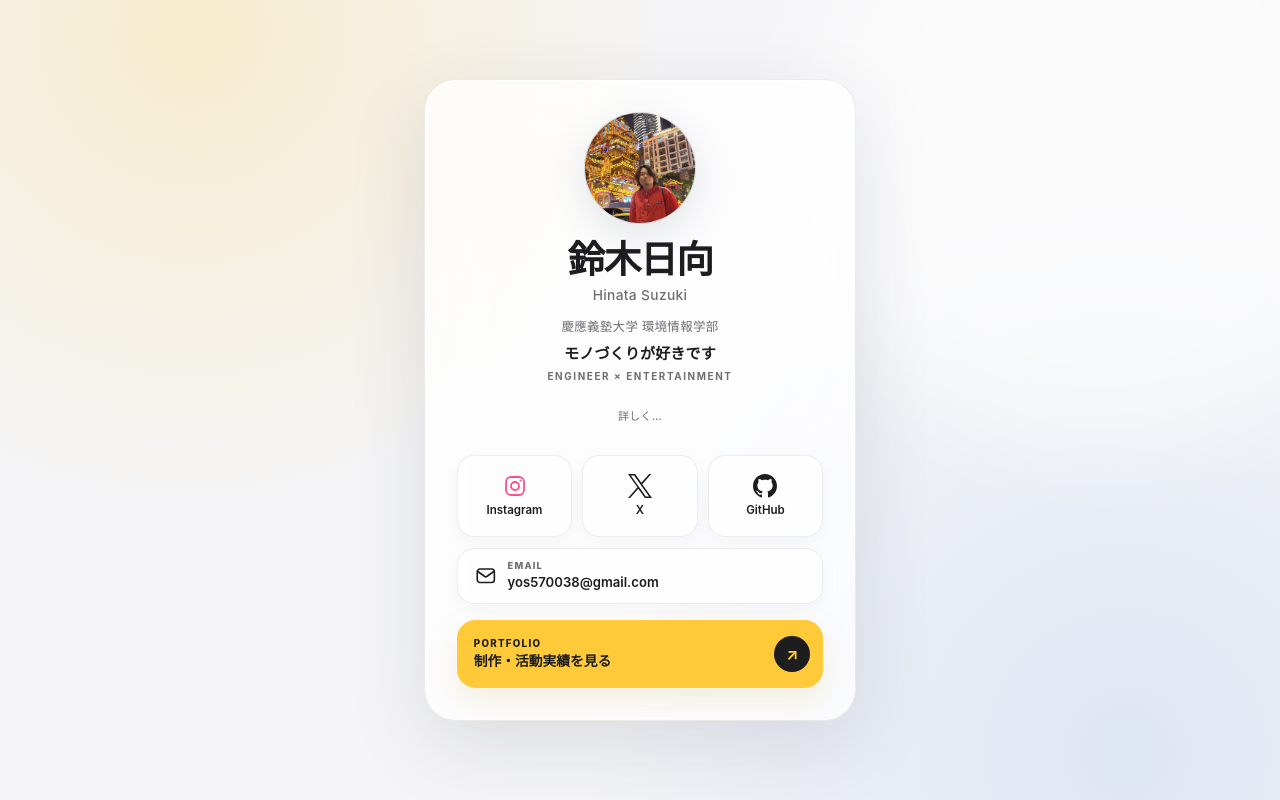
Test case: Connect page › keeps the requested introduction behind a disclosure
The image size is (1280, 800).
Step 1. Click the button "詳しく…" → [640, 417], box [608, 395, 672, 439]
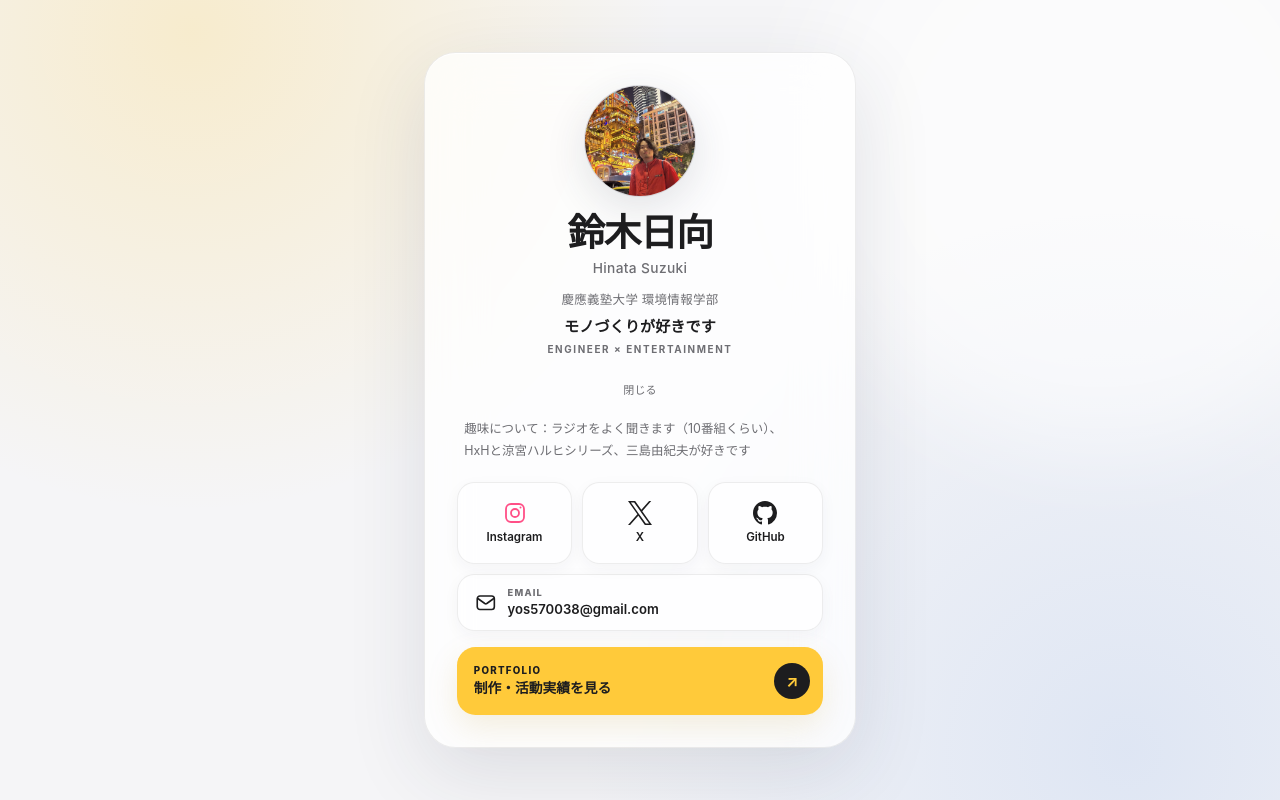
Now the button "閉じる" is expanded, box [613, 368, 667, 412]
